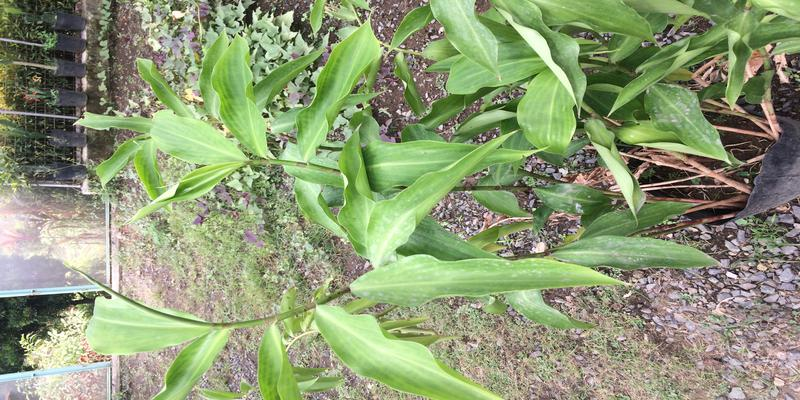Insulin: (131, 39, 767, 313)
